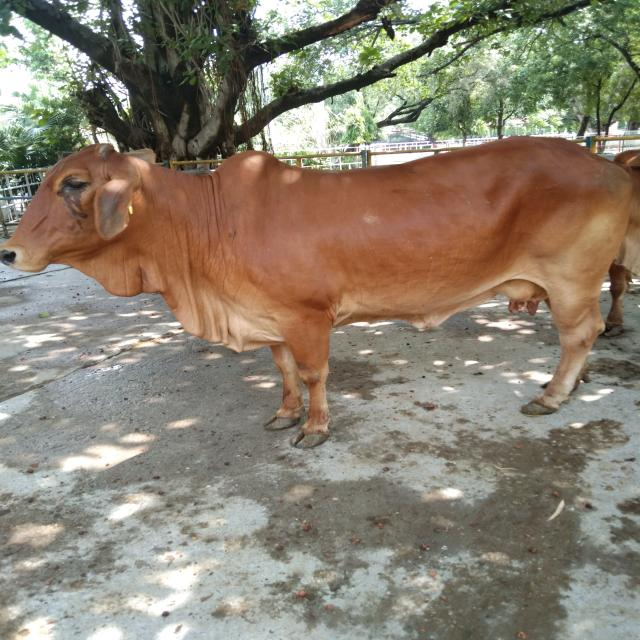Hoof: (290, 428, 330, 449), (519, 399, 557, 417), (263, 414, 300, 431)
